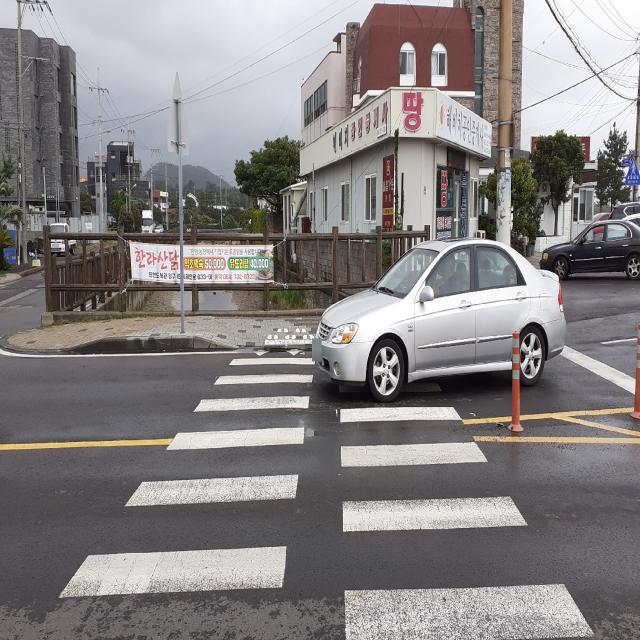횡단보도: (57, 343, 599, 640)
